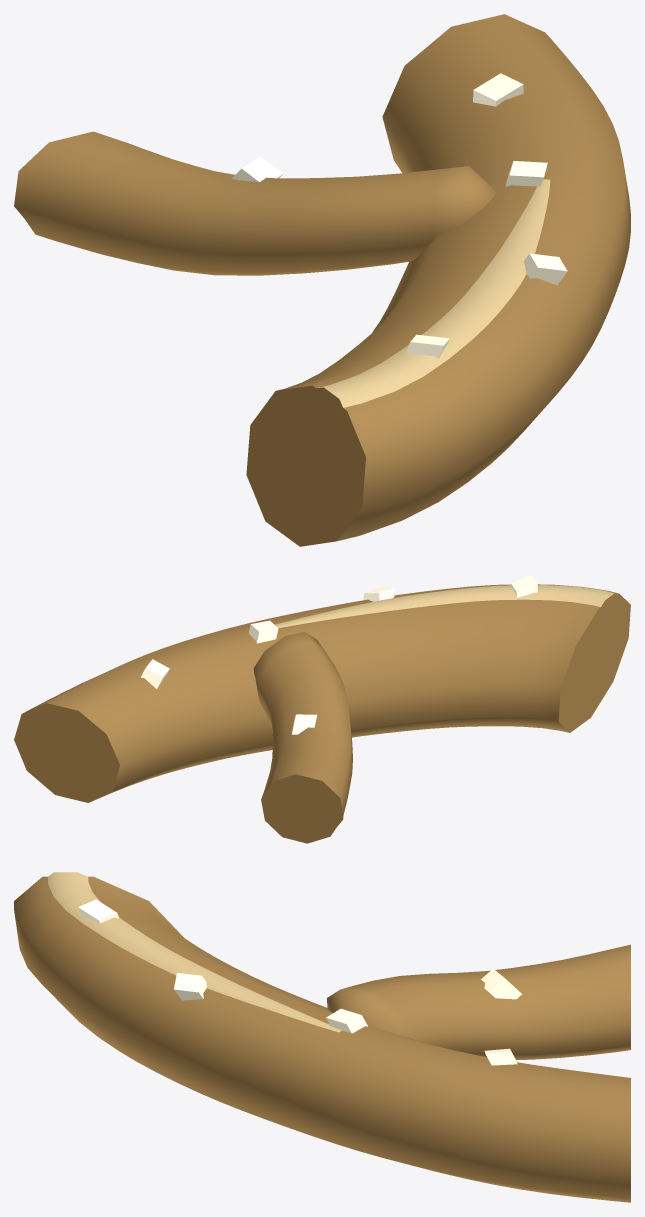
File: shot_superpretzel_b130.glb
3 renders of one model, top to bottom at view 1: azimuth 30°, elevation 25°; view 2: azimuth 150°, elevation 25°; view 3: azimuth 270°, elevation 25°, orthographic. The views are drawn at different scales.
Parts seen in each view (by area): view 1: sp_rope_b130, sp_split_b130, sp_salt.007_b130, sp_salt.009_b130, sp_salt.008_b130, sp_salt.021_b130, sp_salt.010_b130; view 2: sp_rope_b130, sp_split_b130, sp_salt.008_b130, sp_salt.007_b130, sp_salt.010_b130, sp_salt.021_b130; view 3: sp_rope_b130, sp_split_b130, sp_salt.009_b130, sp_salt.021_b130, sp_salt.008_b130, sp_salt.010_b130.
Boxes of the visible parts, left/top/right/bottom form: sp_rope_b130: left=14, top=14, right=630, bottom=546; sp_split_b130: left=313, top=179, right=550, bottom=412; sp_salt.007_b130: left=473, top=73, right=523, bottom=106; sp_salt.009_b130: left=523, top=253, right=567, bottom=285; sp_salt.008_b130: left=505, top=161, right=547, bottom=186; sp_salt.021_b130: left=231, top=156, right=283, bottom=182; sp_salt.010_b130: left=406, top=334, right=449, bottom=358; sp_rope_b130: left=14, top=584, right=630, bottom=843; sp_split_b130: left=275, top=585, right=617, bottom=627; sp_salt.008_b130: left=248, top=620, right=278, bottom=643; sp_salt.007_b130: left=141, top=659, right=169, bottom=688; sp_salt.010_b130: left=511, top=575, right=537, bottom=597; sp_salt.021_b130: left=291, top=714, right=317, bottom=734; sp_rope_b130: left=14, top=876, right=630, bottom=1202; sp_split_b130: left=48, top=872, right=341, bottom=1032; sp_salt.009_b130: left=174, top=972, right=206, bottom=1000; sp_salt.021_b130: left=481, top=968, right=521, bottom=999; sp_salt.008_b130: left=326, top=1008, right=367, bottom=1033; sp_salt.010_b130: left=78, top=899, right=119, bottom=923.
Size of the model in its own units: 11.06 by 3.37 by 13.09.
